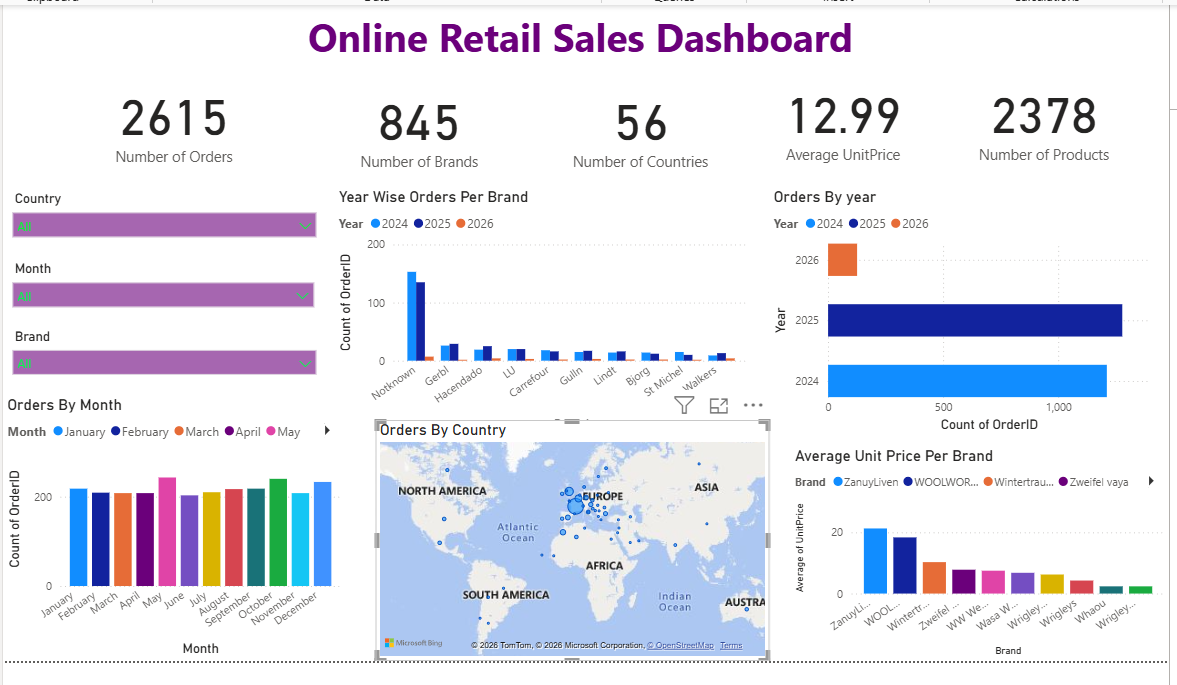

The page's visual inventory and layout, read from the dashboard file:
{"tool":"powerbi","page":{"name":"Page 1","canvas":[1280,720],"ordinal":0},"visuals":[{"type":"card","fields":{"Values":["CountNonNull(online_retail_cleaned.OrderID)"]},"box":[0,55.7,375.7,142.9],"z":0},{"type":"textbox","box":[0,0,1280,67.1],"z":1000},{"type":"columnChart","title":"Orders By Month","fields":{"Y":["CountNonNull(online_retail_cleaned.OrderID)"],"Category":["online_retail_cleaned.Month"],"Series":["online_retail_cleaned.Month"]},"box":[0,428.6,375.7,291.4],"z":2000},{"type":"barChart","title":"Orders By year","fields":{"Category":["online_retail_cleaned.Year"],"Y":["CountNonNull(online_retail_cleaned.OrderID)"],"Series":["online_retail_cleaned.Year"]},"box":[841.4,200,438.6,272.9],"z":3000},{"type":"clusteredColumnChart","title":"Year Wise Orders Per Brand","fields":{"Category":["online_retail_cleaned.Brand"],"Y":["CountNonNull(online_retail_cleaned.OrderID)"],"Series":["online_retail_cleaned.Year"]},"box":[364.3,200,460,272.9],"z":4000},{"type":"map","title":"Orders By Country","fields":{"Category":["online_retail_cleaned.Country"],"Size":["CountNonNull(online_retail_cleaned.OrderID)"]},"box":[408.6,455.7,432.9,264.3],"z":5000},{"type":"columnChart","title":"Average Unit Price Per Brand","fields":{"Category":["online_retail_cleaned.Brand"],"Y":["Avg(online_retail_cleaned.UnitPrice)"],"Series":["online_retail_cleaned.Brand"]},"box":[864.3,484.3,415.7,235.7],"z":6000},{"type":"slicer","fields":{"Values":["online_retail_cleaned.Country"]},"box":[0,198.6,354.3,77.1],"z":7000},{"type":"slicer","fields":{"Values":["online_retail_cleaned.Brand"]},"box":[0,350,354.3,77.1],"z":8000},{"type":"slicer","fields":{"Values":["online_retail_cleaned.Month"]},"box":[0,275.7,351.4,74.3],"z":9000},{"type":"card","fields":{"Values":["Count(online_retail_cleaned.Brand)"]},"box":[295.7,67.1,321.4,131.4],"z":10000},{"type":"card","fields":{"Values":["Count(online_retail_cleaned.Country)"]},"box":[558.6,67.1,282.9,131.4],"z":11000},{"type":"card","fields":{"Values":["Avg(online_retail_cleaned.UnitPrice)"]},"box":[791.4,67.1,261.4,117.1],"z":12000},{"type":"card","fields":{"Values":["Count(online_retail_cleaned.ProductName)"]},"box":[1005.7,67.1,274.3,117.1],"z":13000}]}

Visuals, with their boxes on the page's 1280x720 design canvas (x1, y1, x2, y2). These are canvas units, not pixel positions in the 1177x685 screenshot, which may show the page scaled, cropped or inside an application window:
card - CountNonNull(online_retail_cleaned.OrderID): (0, 56, 376, 199)
textbox: (0, 0, 1280, 67)
"Orders By Month" columnChart: (0, 429, 376, 720)
"Orders By year" barChart: (841, 200, 1280, 473)
"Year Wise Orders Per Brand" clusteredColumnChart: (364, 200, 824, 473)
"Orders By Country" map: (409, 456, 842, 720)
"Average Unit Price Per Brand" columnChart: (864, 484, 1280, 720)
slicer - online_retail_cleaned.Country: (0, 199, 354, 276)
slicer - online_retail_cleaned.Brand: (0, 350, 354, 427)
slicer - online_retail_cleaned.Month: (0, 276, 351, 350)
card - Count(online_retail_cleaned.Brand): (296, 67, 617, 198)
card - Count(online_retail_cleaned.Country): (559, 67, 842, 198)
card - Avg(online_retail_cleaned.UnitPrice): (791, 67, 1053, 184)
card - Count(online_retail_cleaned.ProductName): (1006, 67, 1280, 184)
